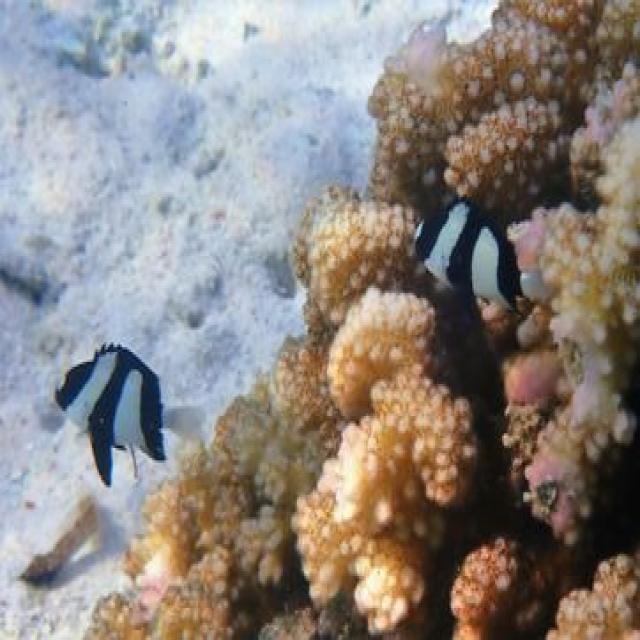ThreeStripedDamselfish: (55, 340, 205, 486), (410, 191, 548, 315)
